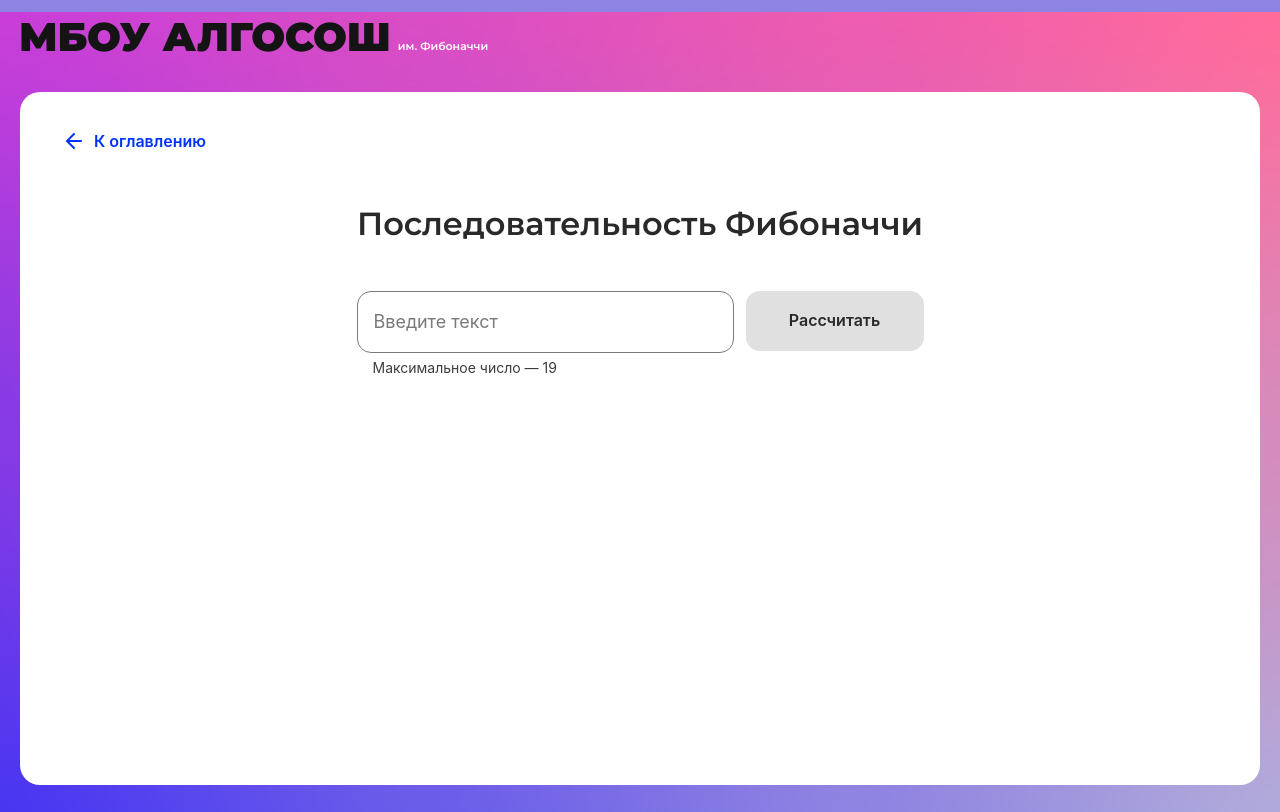
Fibonacci component tests › fill input with some value should activate button
Type "5" into the number field with test id "input". click: (546, 322)
box: left=357, top=291, right=734, bottom=353
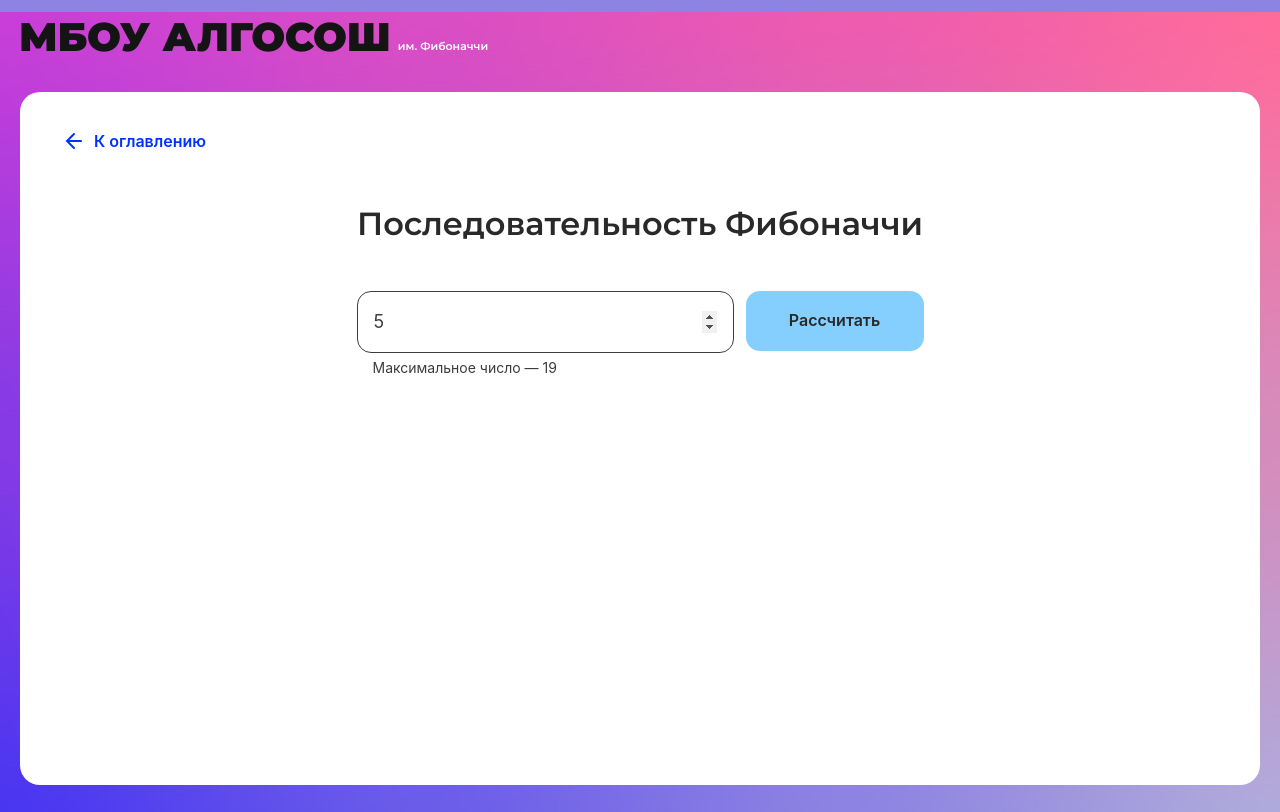
Result: the button with test id "button" is enabled at left=746, top=291, right=924, bottom=351
